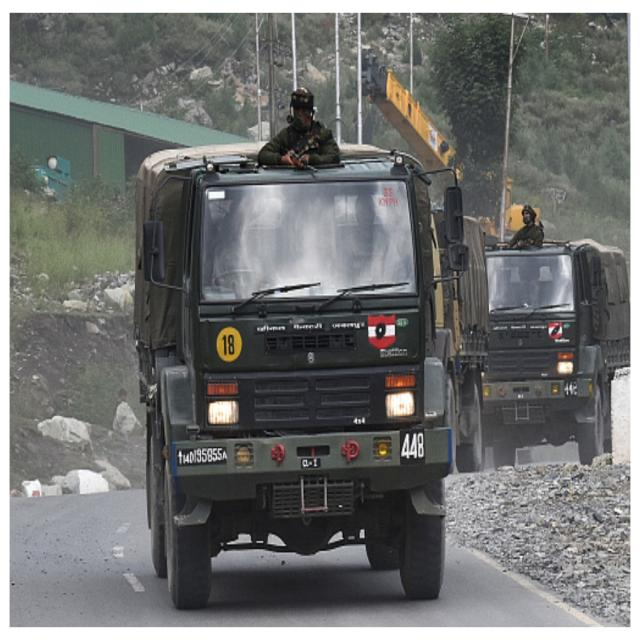truck: (135, 88, 451, 608), (484, 205, 630, 467)
